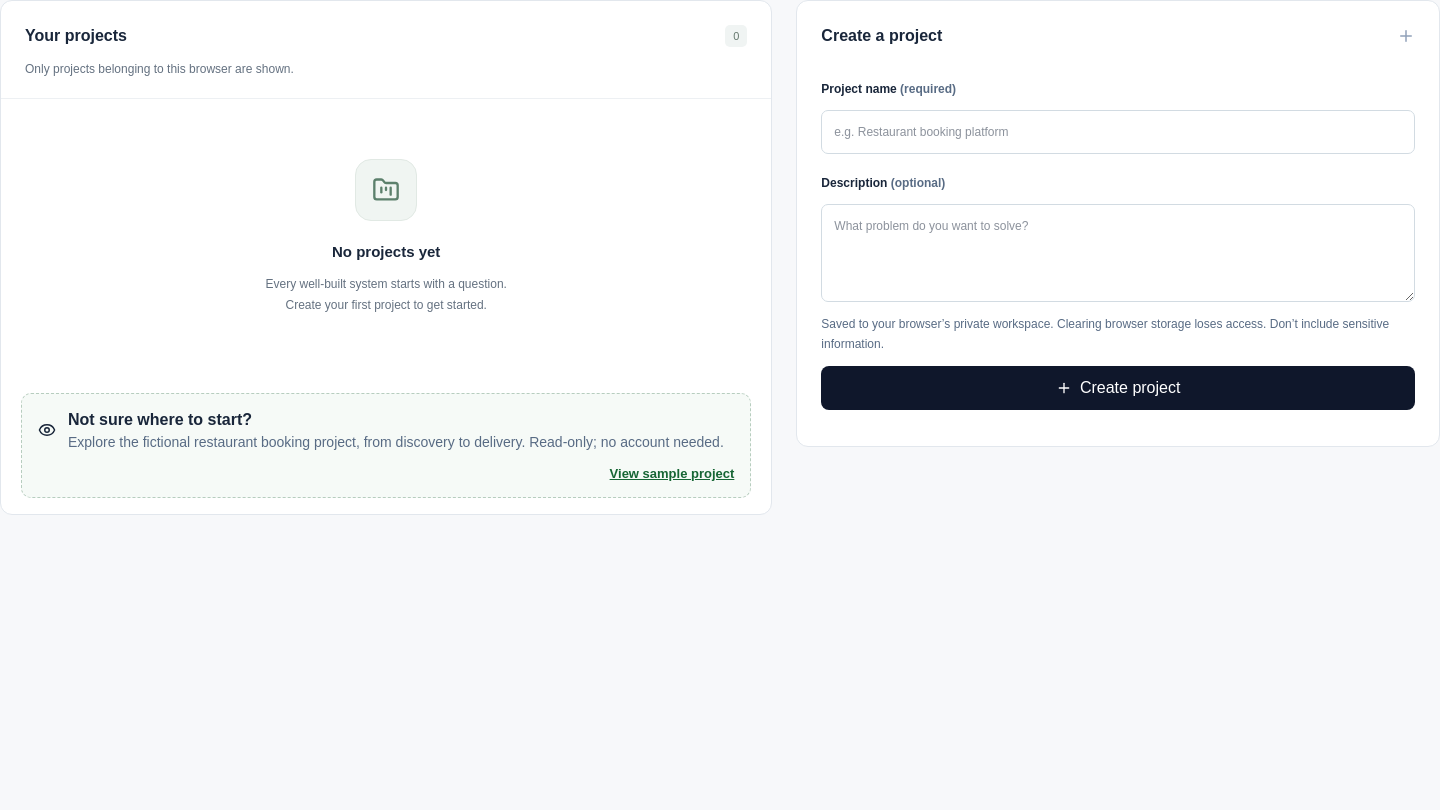
projects › preserves form input on a create error and shows its correlation ID
The width and height of the screenshot is (1440, 810).
Check: the heading "No projects yet" is shown, box [332, 243, 440, 260]
Type "Booking platform" into the field labelled "Project name (required)" at (1118, 132), box [821, 110, 1415, 154]
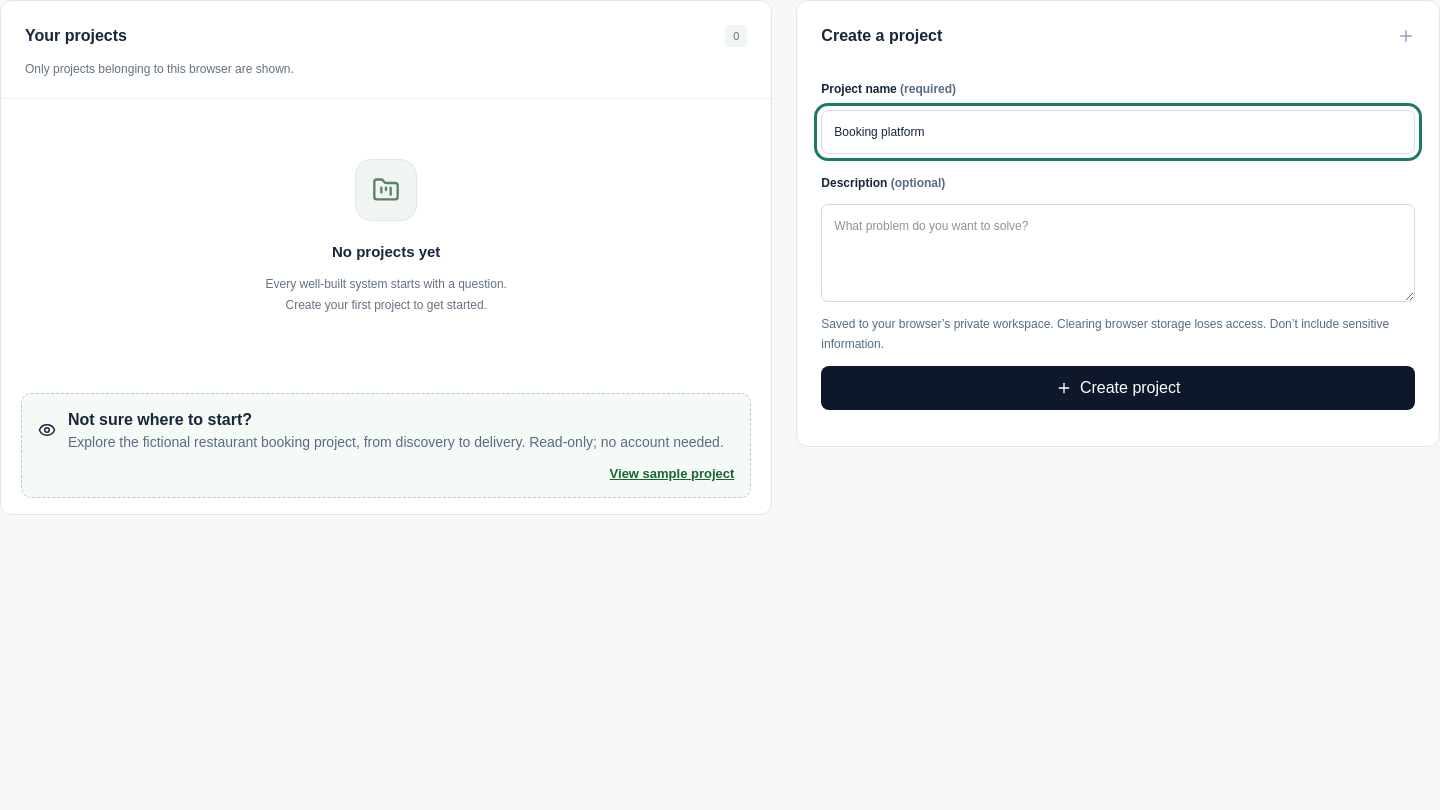
Click the button "Create project" at (1118, 388), box [821, 366, 1415, 410]
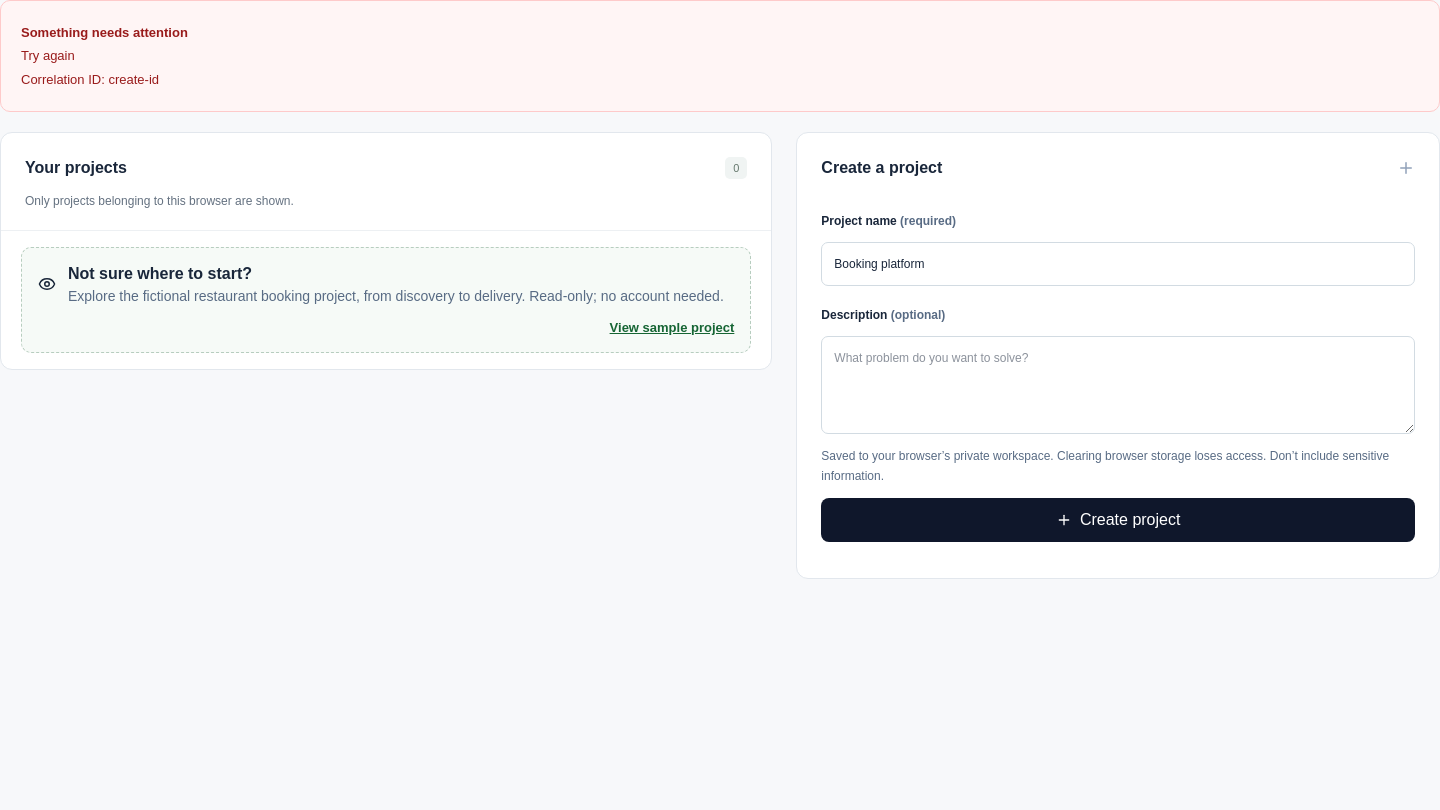
Check: the message shows "create-id", box [108, 72, 159, 87]
